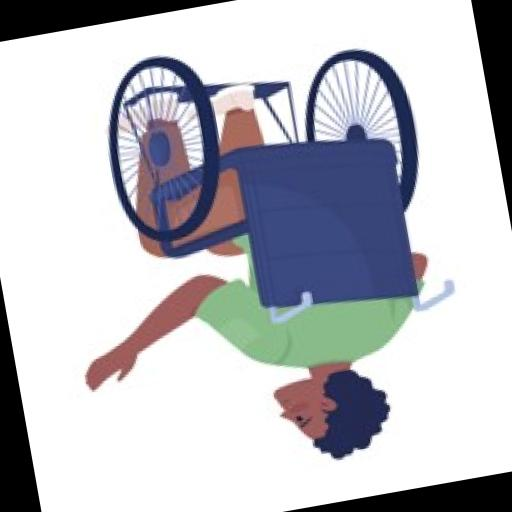human: (27, 39, 462, 512)
